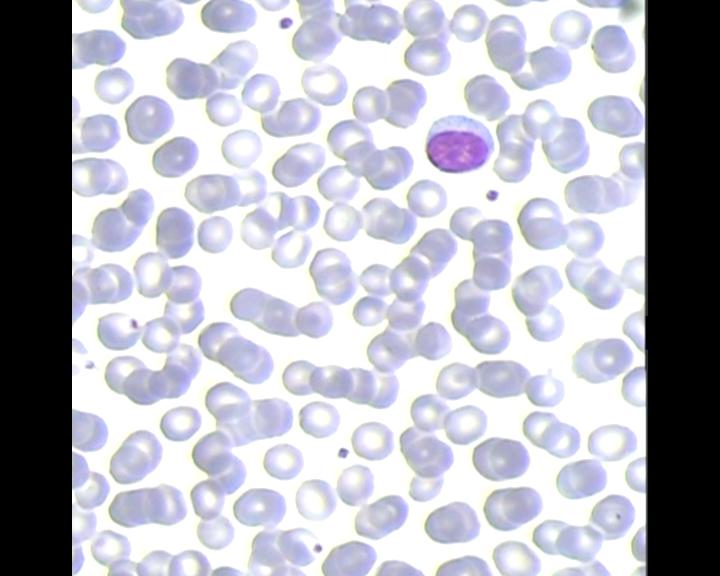lymp: (423, 109, 502, 178)
